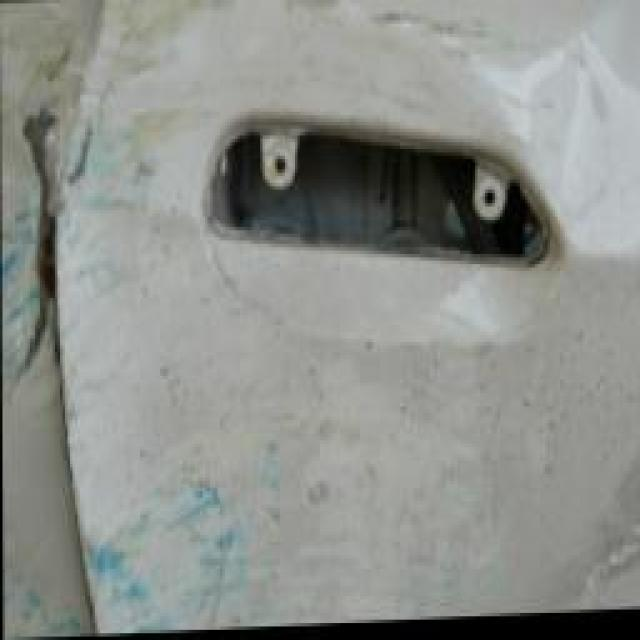Door: (0, 0, 633, 640)
